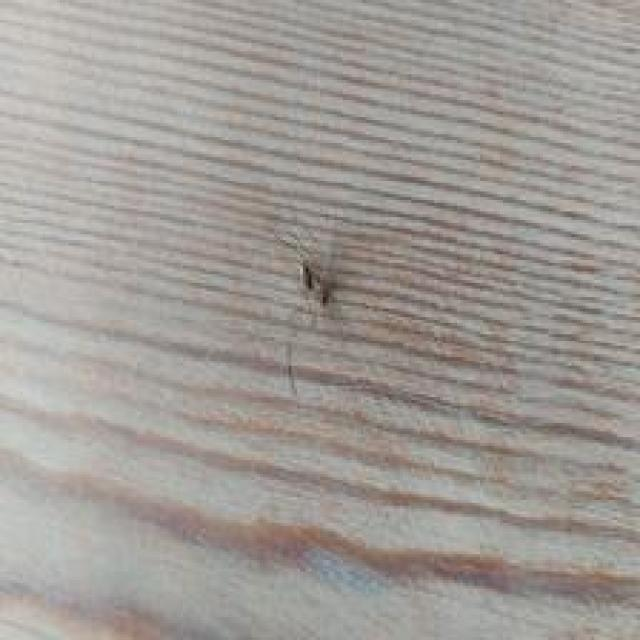Culex: (277, 229, 337, 320)
